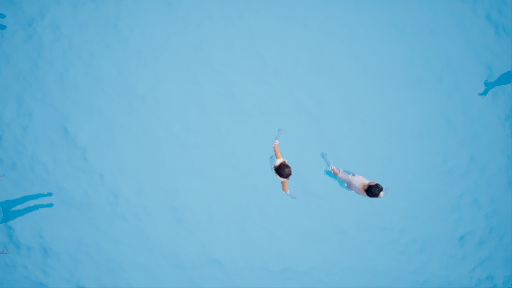person: (319, 151, 388, 205), (270, 121, 300, 197)
